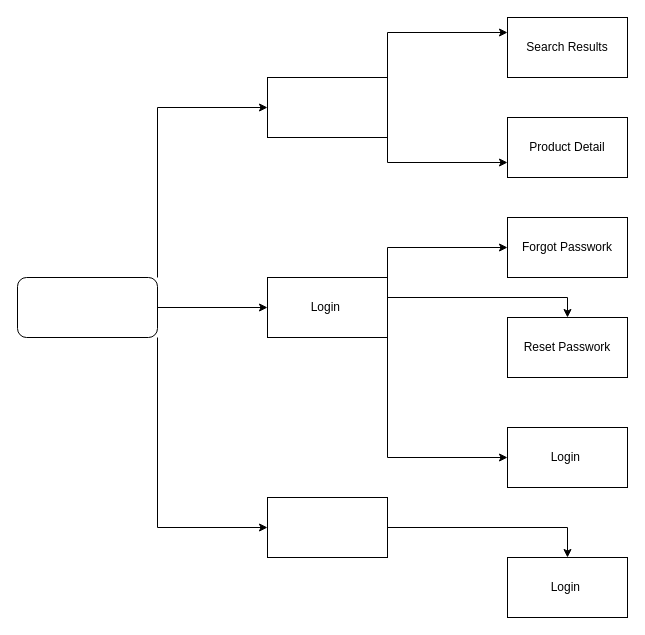
Image size: 645x635. Some labels were removed from this diagram. Here are the shapes that lost their labels. From the top down, the centre of each, then its label:
[327,107]: Produce List
[87,307]: Home Page
[327,527]: Register
